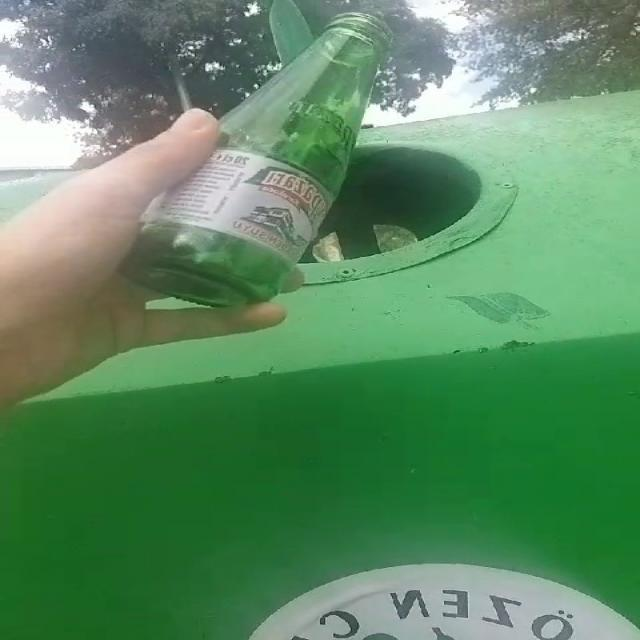Glass: (123, 12, 392, 306)
